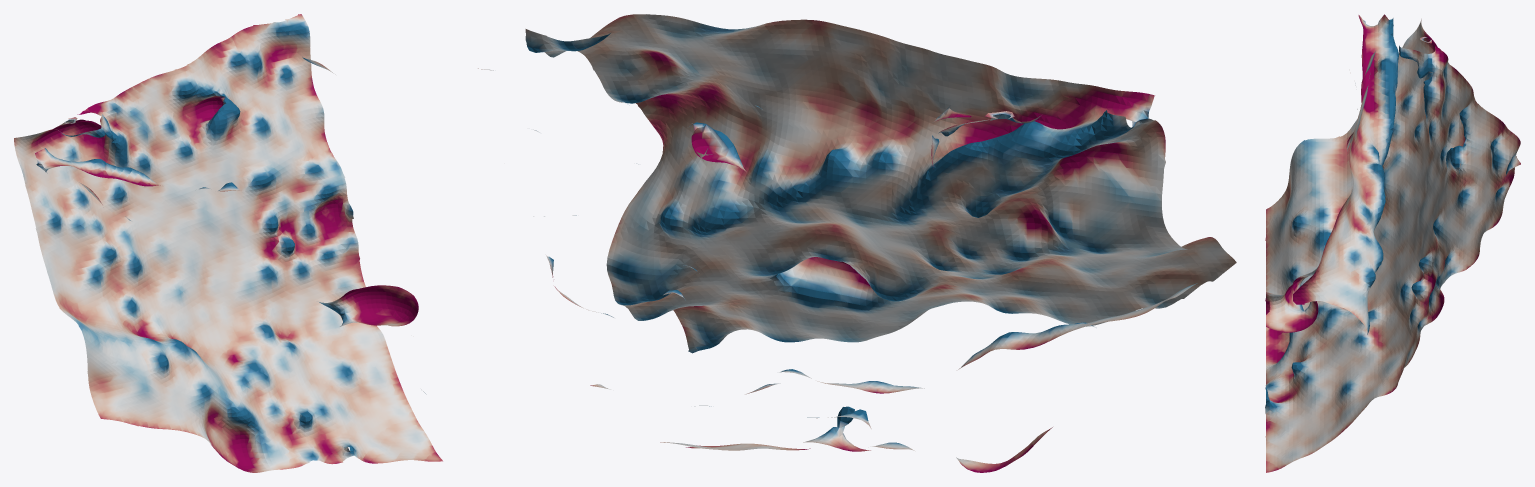
The model's file is crop1149_deviation.glb.
The picture shows the model from 3 angles, left to right: view 1: azimuth 30°, elevation 25°; view 2: azimuth 150°, elevation 25°; view 3: azimuth 270°, elevation 25°; orthographic projection. The views are drawn at different scales.
Visible parts, largest first — view 1: world; view 2: world; view 3: world.
Boxes of the visible parts, x1,y1,x2,y2 form: world: [14, 14, 442, 472]; world: [478, 14, 1236, 472]; world: [1265, 14, 1520, 472].
Bounding box in the file's own units: 1479 × 1413 × 1060.
